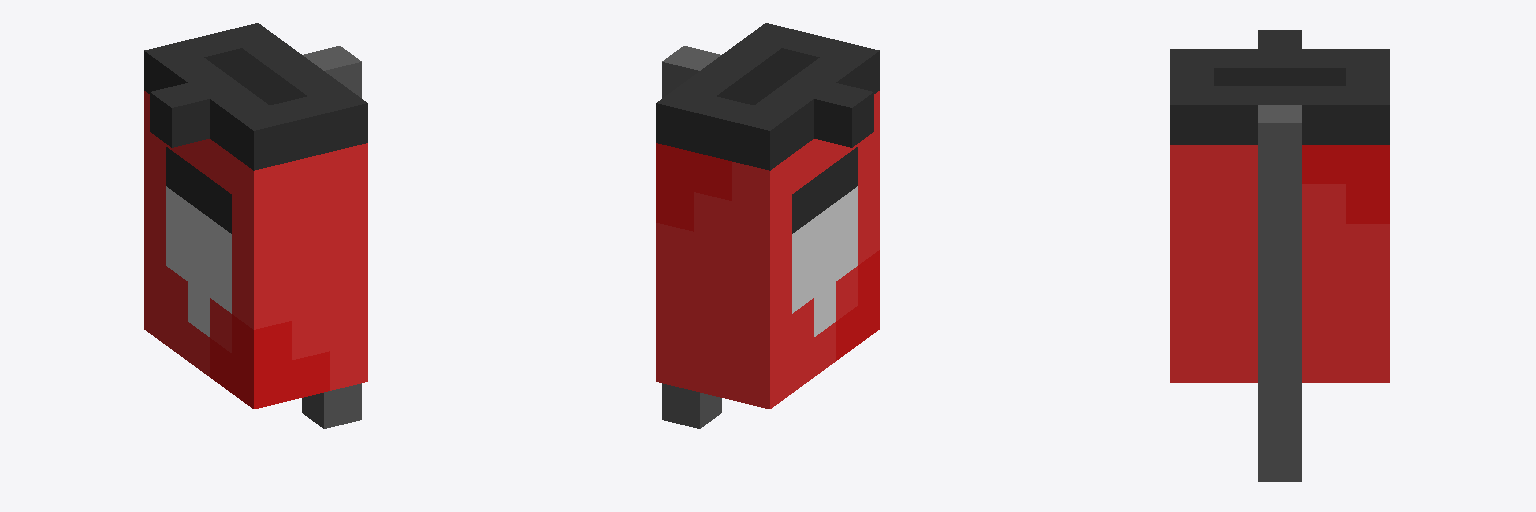
3 views of the same model, side by side, from view 1: azimuth 30°, elevation 25°; view 2: azimuth 150°, elevation 25°; view 3: azimuth 270°, elevation 25° (orthographic).
Parts seen in each view (by area): view 1: Box_25; view 2: Box_25; view 3: Box_25.
Part boxes in pixels (bbox=[...]): Box_25: bbox=[144, 23, 367, 428]; Box_25: bbox=[656, 23, 879, 428]; Box_25: bbox=[1170, 30, 1389, 481].
Bounding box in the file's own units: 5 × 9 × 5.
1 materials, 1 textured.